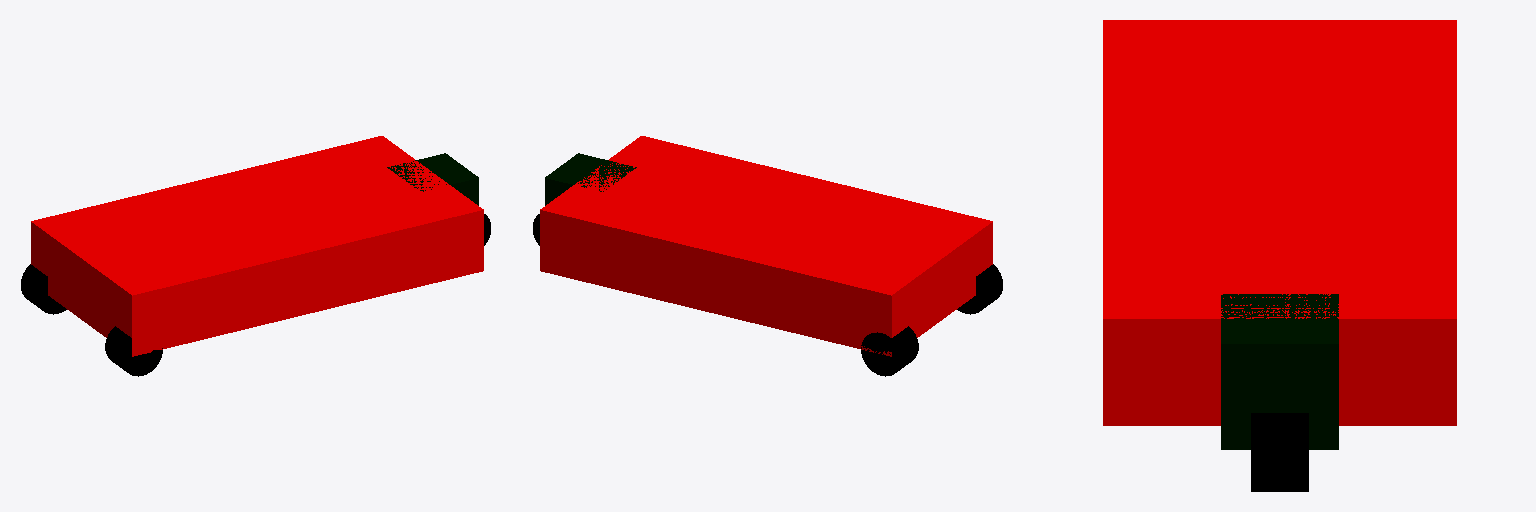
The robot description file, URDF, robot "custom_robot":
<?xml version="1.0"?>
<robot name="custom_robot">
    <link name="base_link">
        <visual>
            <geometry>
                <box size="0.6 0.3 0.1"/>
            </geometry>
            <material name="red">
                <color rgba="1 0.0 0.0 1"/>
            </material>
        </visual>
        <collision>
            <geometry>
                <box size="0.6 0.3 0.1"/>
            </geometry>
        </collision>
        <inertial>
            <mass value="1.0"/>
            <inertia ixx="0.015" ixy="0" ixz="0" iyy="0.0375" iyz="0.0" izz="0.0375"/>
        </inertial>
        
    </link>
    <link name="front_caster_of_wheel">
        <visual>
            <geometry>
                <box size="0.1 0.1 0.1"/>
            </geometry>
            <material name="green">
                <color rgba="0.0 0.1 0.0 1"/>   
            </material>
        </visual>
        <collision>
            <geometry>
                <box size="0.1 0.1 0.1"/>
            </geometry>
        </collision>
        <inertial>
            <mass value="0.1"/>
            <inertia ixx="0.00083" ixy="0" ixz="0" iyy="0.00083" iyz="0.0" izz="0.000167"/>
        </inertial>
    </link>
    <joint name="front_caster_of_wheel_joint" type="continuous">
       <axis xyz="0.0 0.0 1"/> 
       <parent link="base_link"/>
       <child link="front_caster_of_wheel"/>
       <origin xyz="0.3 0.0 0.0" rpy="0.0 0.0 0.0"/>
    </joint>

    <link name="front_wheel">
        <visual>
            <geometry>
                <cylinder radius="0.035" length="0.05"/>
            </geometry>
            <material name="black">
                
            </material>

        </visual>
        <collision>
            <geometry>
                <cylinder radius="0.035" length="0.05"/>
            </geometry>
        </collision>
        <inertial>
            <mass value="0.1"/>
            <inertia ixx="5.1458e-5" ixy="0" ixz="0" iyy="5.1458e-5" iyz="0.0" izz="6.125e-5"/>
        </inertial>
    </link>

    <joint name="front_wheel_joint" type="continuous">
        <axis xyz="0.0 0.0 1"/>
        <parent link="front_caster_of_wheel"/>
        <child link="front_wheel"/>
        <origin xyz="0.05 0.0 -0.05" rpy="-1.5708 0.0 0.0"/>
        
    </joint>

<link name="right_wheel">
        <visual>
            <geometry>
                <cylinder radius="0.035" length="0.05"/>
            </geometry>
            <material name="black">
                <color rgba="0.0 0.0 0.0 1"/>
            </material>

        </visual>
        <collision>
            <geometry>
                <cylinder radius="0.035" length="0.05"/>
            </geometry>
        </collision>
        <inertial>
            <mass value="0.1"/>
            <inertia ixx="5.1458e-5" ixy="0" ixz="0" iyy="5.1458e-5" iyz="0.0" izz="6.125e-5"/>        </inertial>
    </link>

    <joint name="right_wheel_joint" type="continuous">
        <axis xyz="0.0 0.0 1"/>
        <parent link="base_link"/>
        <child link="right_wheel"/>
        <origin xyz="-0.2825 -0.125 -0.05" rpy="-1.5708 0.0 0.0"/>
        
    </joint>
    <link name="left_wheel">
        <visual>
            <geometry>
                <cylinder radius="0.035" length="0.05"/>
            </geometry>
            <material name="black">
                <color rgba="0.0 0.0 0.0 1"/>
            </material>

        </visual>
        <collision>
            <geometry>
                <cylinder radius="0.035" length="0.05"/>
            </geometry>
        </collision>
        <inertial>
            <mass value="0.1"/>
            <inertia ixx="5.1458e-5" ixy="0" ixz="0" iyy="5.1458e-5" iyz="0.0" izz="6.125e-5"/>        </inertial>
    </link>

    <joint name="left_wheel_joint" type="continuous">
        <axis xyz="0.0 0.0 1"/>
        <parent link="base_link"/>
        <child link="left_wheel"/>
        <origin xyz="-0.2825 0.125 -0.05" rpy="-1.5708 0.0 0.0"/>
        
    </joint>

    <gazebo>
        <plugin name="differential_drive_controller"
                filename="libgazebo_ros_diff_drive.so">
            <leftJoint>left_wheel_joint</leftJoint>
            <rightJoint>right_wheel_joint</rightJoint>
            <legacyMode>false</legacyMode>
            
            <robotBaseFrame>base_link</robotBaseFrame>
            <wheelSeparation>0.25</wheelSeparation>
            <wheelDiameter>0.07</wheelDiameter>
            <publishWheelJointState>true</publishWheelJointState>
        </plugin>
    </gazebo>
       <gazebo>
        <plugin name="joint_state_publisher"
                filename="libgazebo_ros_joint_state_publisher.so">
            <jointName>front_caster_of_wheel_joint, front_wheel_joint</jointName>
        </plugin>
    </gazebo>

    </robot>

--- What the picture shows (computed from the rendered views, not written in the file) ---
Views: 3 orthographic renders of the robot side by side, from view 1: azimuth 30°, elevation 25°; view 2: azimuth 150°, elevation 25°; view 3: azimuth 270°, elevation 25°.
Model custom_robot with 5 links and 4 joints (4 continuous), rooted at base_link, posed all joints at 0.
Links seen in each view (by area): view 1: base_link, front_caster_of_wheel, right_wheel, left_wheel; view 2: base_link, left_wheel, front_caster_of_wheel, right_wheel; view 3: base_link, front_caster_of_wheel, front_wheel.
Link boxes in pixels (x1,y1,x2,y2): base_link: (31, 136, 483, 356); front_caster_of_wheel: (387, 153, 478, 205); right_wheel: (105, 326, 162, 376); left_wheel: (21, 264, 66, 314); base_link: (540, 136, 992, 356); left_wheel: (861, 326, 918, 376); front_caster_of_wheel: (545, 153, 636, 205); right_wheel: (957, 264, 1002, 314); base_link: (1103, 20, 1456, 425); front_caster_of_wheel: (1221, 294, 1338, 449); front_wheel: (1251, 413, 1308, 491).
Bounding box of the posed robot: 0.7025 × 0.3 × 0.135 m (x, y, z).
Geometry: primitives only (box / cylinder / sphere), no mesh files.